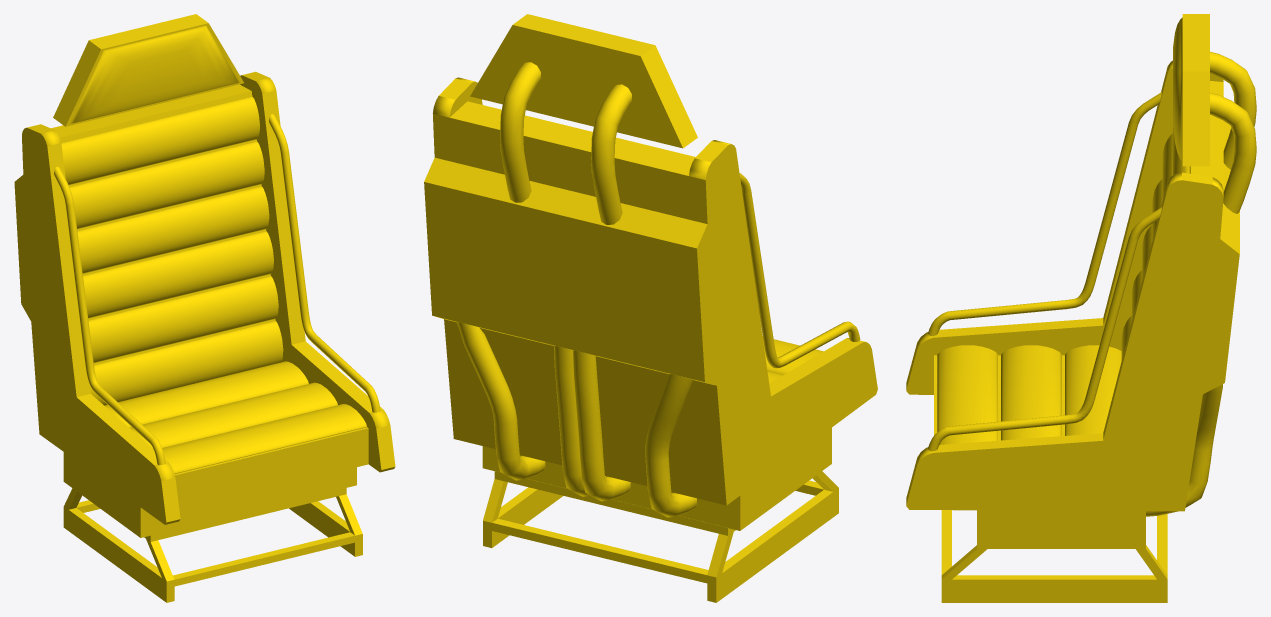
3 views of the same model, side by side, from view 1: azimuth 30°, elevation 25°; view 2: azimuth 150°, elevation 25°; view 3: azimuth 270°, elevation 25° (orthographic). The views are drawn at different scales.
Visible parts, largest first — view 1: Cube, Plane, Plane.001, Cube.003, Cube.002, BezierCurve; view 2: Plane, BezierCurve.003, Plane.001, Cube.003, Cube.002, BezierCurve, Cube; view 3: Plane, Cube, Cube.003, BezierCurve, BezierCurve.003, Cube.002, Plane.001.
Part boxes in pixels (x1=…): Cube: x1=61, y1=96, x2=366, y2=473; Plane: x1=14, y1=71, x2=395, y2=524; Plane.001: x1=53, y1=14, x2=243, y2=126; Cube.003: x1=63, y1=488, x2=362, y2=602; Cube.002: x1=63, y1=452, x2=356, y2=537; BezierCurve: x1=54, y1=114, x2=380, y2=465; Plane: x1=424, y1=77, x2=877, y2=505; BezierCurve.003: x1=457, y1=62, x2=696, y2=517; Plane.001: x1=470, y1=14, x2=697, y2=148; Cube.003: x1=483, y1=471, x2=838, y2=602; Cube.002: x1=482, y1=428, x2=831, y2=530; BezierCurve: x1=739, y1=173, x2=860, y2=368; Cube: x1=762, y1=337, x2=823, y2=383; Plane: x1=906, y1=60, x2=1239, y2=511; Cube: x1=937, y1=125, x2=1189, y2=444; Cube.003: x1=941, y1=510, x2=1167, y2=602; BezierCurve: x1=928, y1=92, x2=1161, y2=451; BezierCurve.003: x1=1146, y1=51, x2=1256, y2=516; Cube.002: x1=977, y1=510, x2=1145, y2=547; Plane.001: x1=1173, y1=14, x2=1209, y2=166.
Bounding box in the file's own units: 1.04 × 2 × 1.25.
